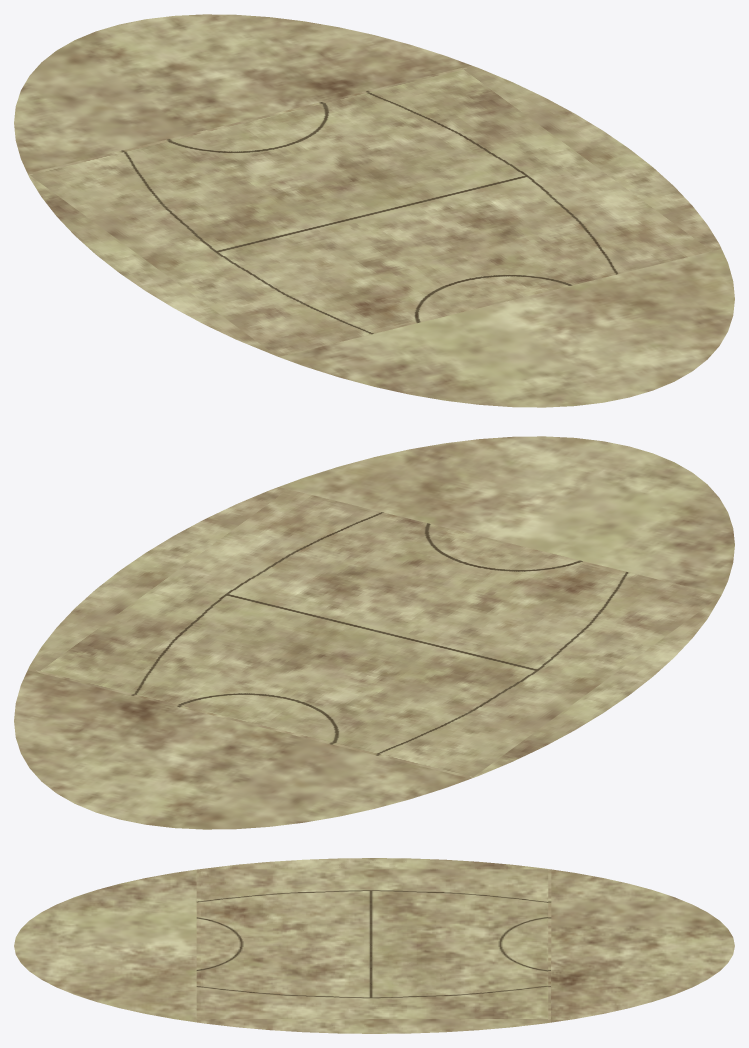
File: ArenaFloor.fbx
3 renders of one model, top to bottom at view 1: azimuth 30°, elevation 25°; view 2: azimuth 150°, elevation 25°; view 3: azimuth 270°, elevation 25°, orthographic. The views are drawn at different scales.
Parts seen in each view (by area): view 1: Circle.002; view 2: Circle.002; view 3: Circle.002.
Boxes of the visible parts, box(x1,y1,x2,y2) form: Circle.002: box(14, 14, 734, 407); Circle.002: box(14, 436, 734, 829); Circle.002: box(14, 858, 734, 1033).
Size of the model in its own units: 139 by 0 by 241.
